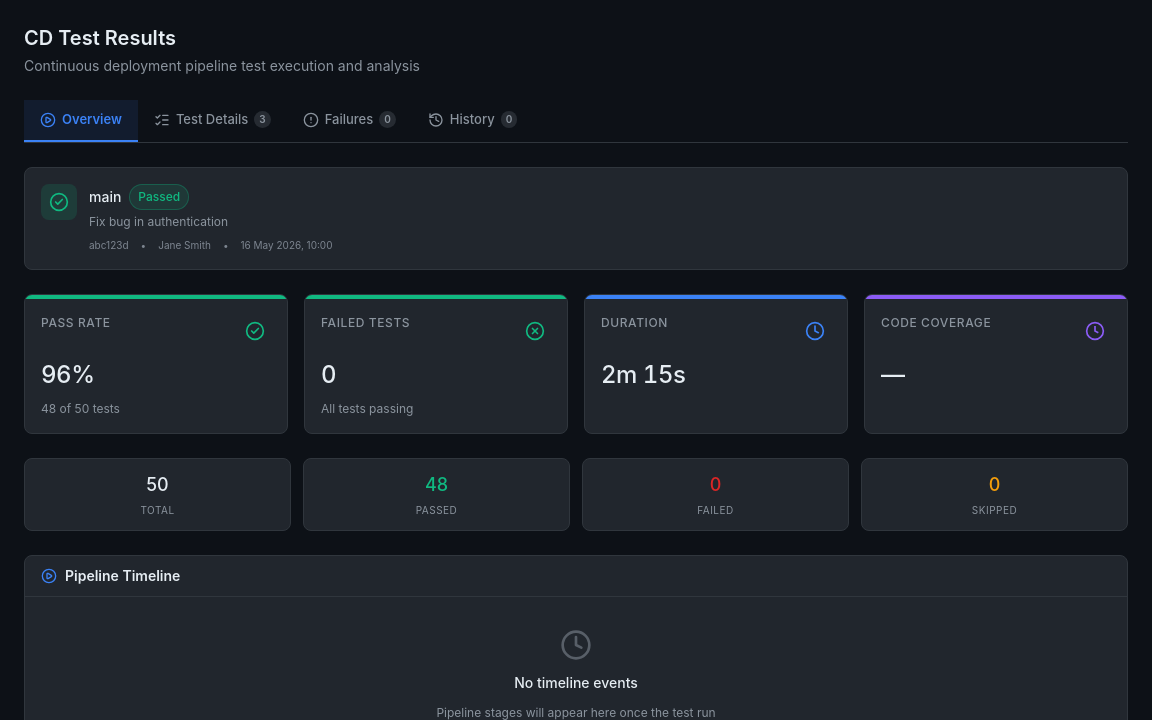
Test case: TestResultsView › shows empty state in Failures tab when no failures
The width and height of the screenshot is (1152, 720).
# Navigate to Failures tab
Click the tab "Failures 0". click: (349, 121)
box: x1=287 y1=100 x2=412 y2=142
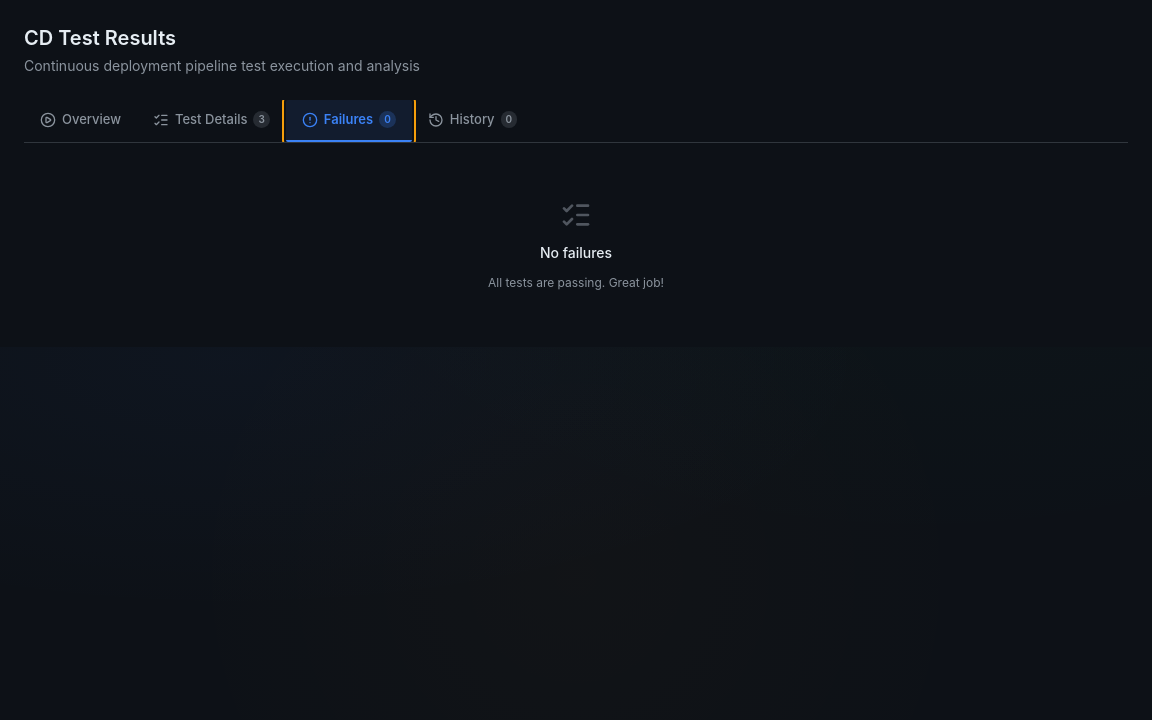
Result: the text "No failures" is shown at x1=540 y1=242 x2=612 y2=262
Result: the text "All tests are passing. Great job!" is shown at x1=488 y1=274 x2=664 y2=290
